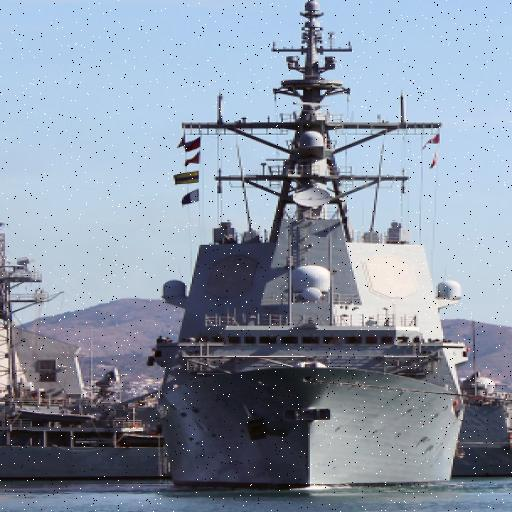Fragata: (154, 1, 461, 500)
